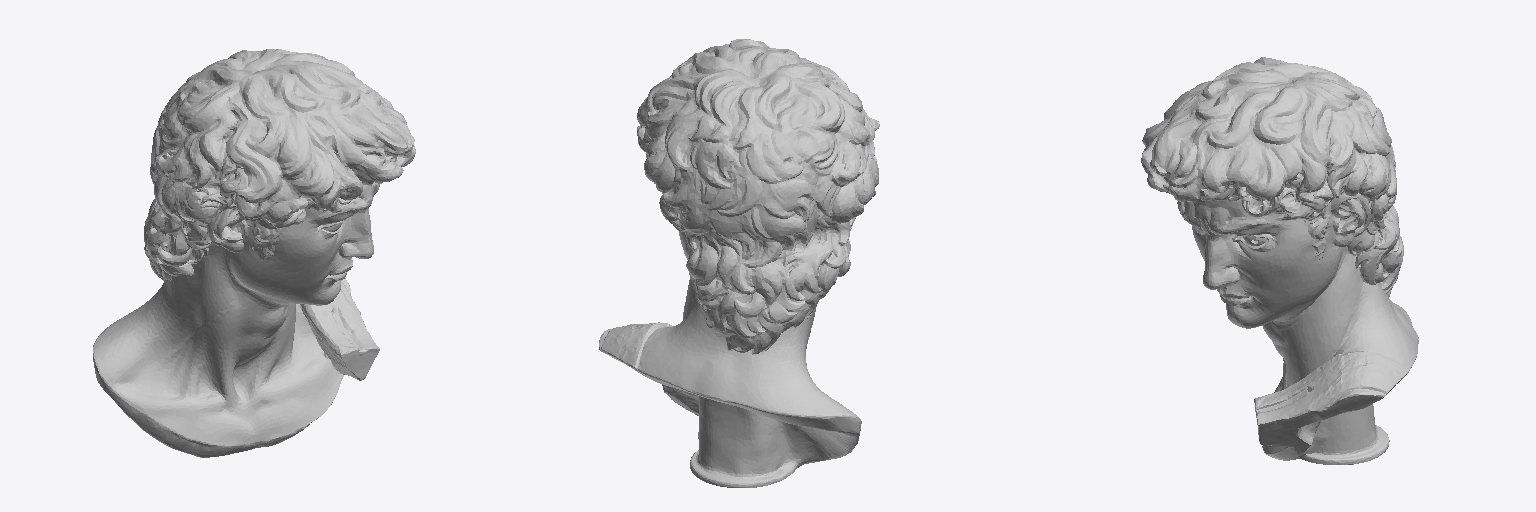
File: head-of-david.obj
3 renders of one model, left to right at view 1: azimuth 30°, elevation 25°; view 2: azimuth 150°, elevation 25°; view 3: azimuth 270°, elevation 25°, orthographic.
Bounding box in the file's own units: 138 × 200 × 133.